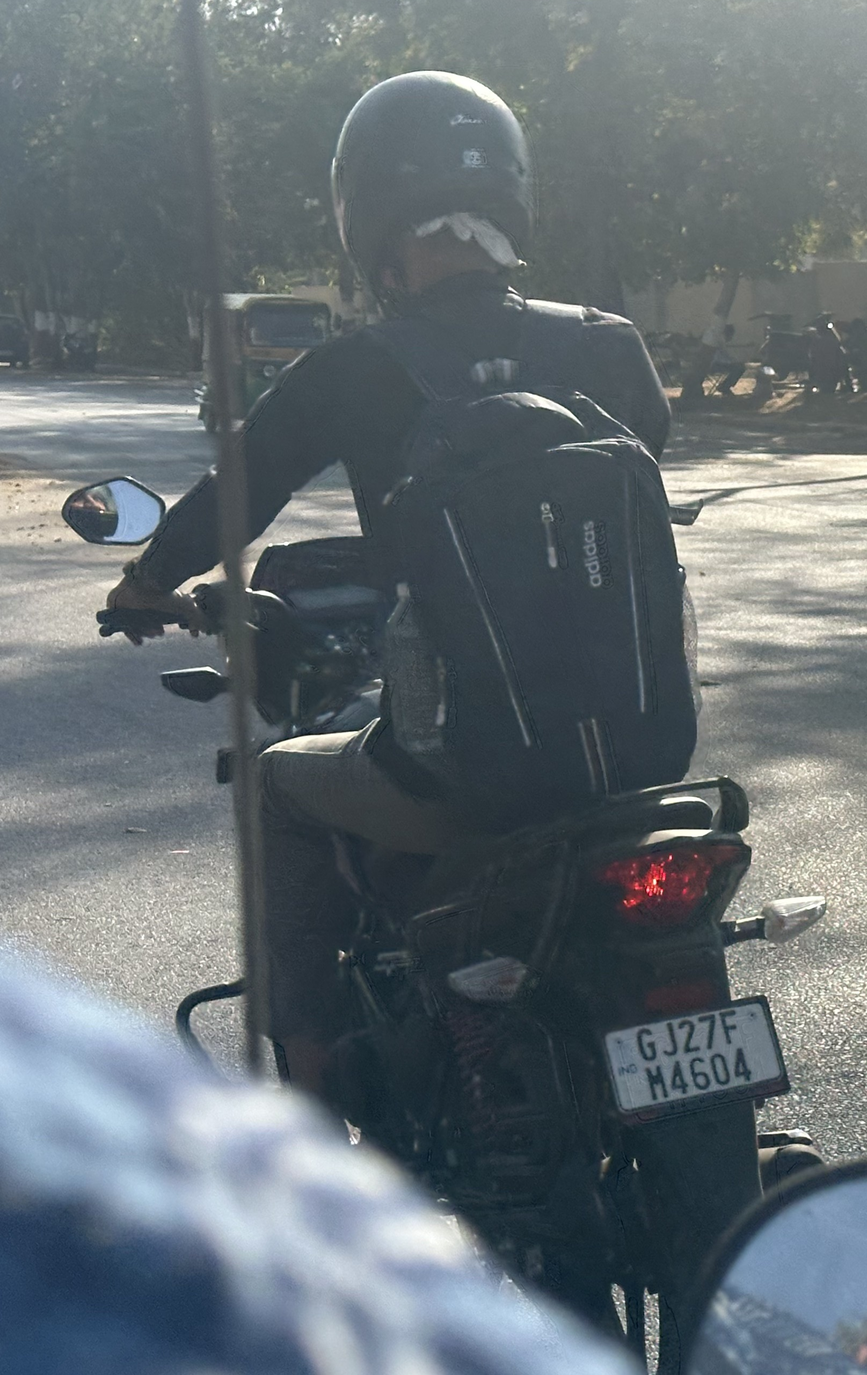BikeWithRider: (45, 47, 832, 1375)
Helmet: (305, 56, 544, 311)
